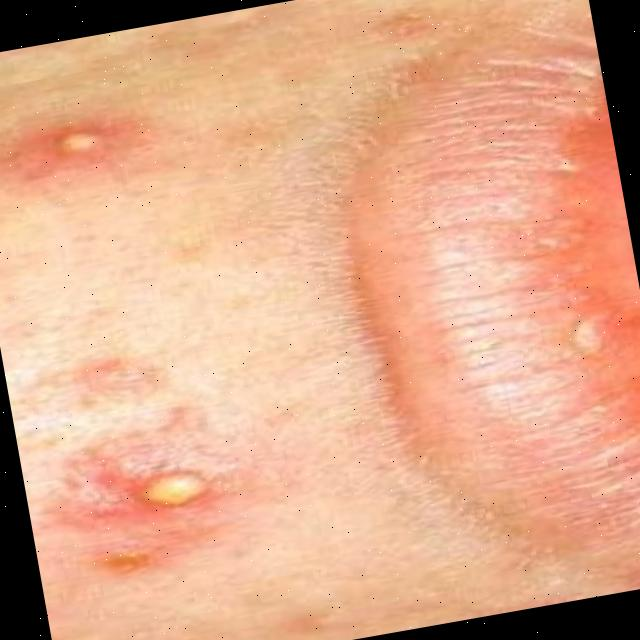kan emici bocekler: (19, 394, 274, 563), (1, 89, 170, 198)
